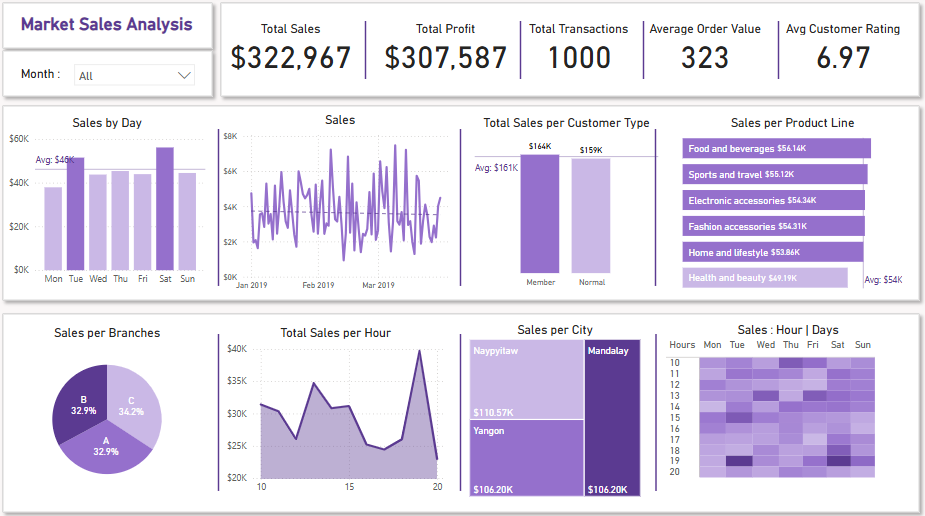

The page's visual inventory and layout, read from the dashboard file:
{"tool":"powerbi","page":{"name":"Page 1","canvas":[1280,720],"ordinal":0},"visuals":[{"type":"shape","box":[0,0,306.9,81.2],"z":0},{"type":"shape","box":[300,0,980,147.3],"z":1000},{"type":"shape","box":[0,428,1280,291.8],"z":2000},{"type":"shape","box":[0,141.8,1280,286.3],"z":3000},{"type":"card","title":"Total Sales","fields":{"Values":["Sum(Supermarket Sales Cleaned.Total)"]},"box":[312.4,34.4,185.8,72.9],"z":4000},{"type":"card","title":"Total Transactions","fields":{"Values":["Count(Supermarket Sales Cleaned.Invoice ID)"]},"box":[722.6,34.4,158.3,72.9],"z":5000},{"type":"card","title":"Total Profit","fields":{"Values":["Sum(Supermarket Sales Cleaned.cogs)"]},"box":[525.8,34.4,185.8,72.9],"z":6000},{"type":"card","title":"Average Order Value","fields":{"Values":["Supermarket Sales Cleaned.Average Order Value (AOV)"]},"box":[891.9,34.4,167.9,72.9],"z":7000},{"type":"card","title":"Avg Customer Rating","fields":{"Values":["Supermarket Sales Cleaned.Customer Rating"]},"box":[1077.7,34.4,176.2,72.9],"z":8000},{"type":"clusteredColumnChart","title":"Total Sales per Customer Type","fields":{"Y":["Sum(Supermarket Sales Cleaned.Total)"],"Category":["Supermarket Sales Cleaned.Customer type"]},"box":[653.8,163.8,262.9,243.6],"z":9000},{"type":"areaChart","title":"Total Sales per Hour","fields":{"Category":["Supermarket Sales Cleaned.Hours"],"Y":["Sum(Supermarket Sales Cleaned.Total)"]},"box":[312.4,452.8,309.7,240.9],"z":10000},{"type":"lineChart","title":"Sales","fields":{"Category":["Supermarket Sales Cleaned.Date.Variation.Date Hierarchy.Year","Supermarket Sales Cleaned.Date.Variation.Date Hierarchy.Quarter","Supermarket Sales Cleaned.Date.Variation.Date Hierarchy.Month","Supermarket Sales Cleaned.Date.Variation.Date Hierarchy.Day"],"Y":["Sum(Supermarket Sales Cleaned.Total)"]},"box":[312.4,159.7,322.1,247.7],"z":11000},{"type":"treemap","title":"Sales per City","fields":{"Group":["Supermarket Sales Cleaned.City"],"Values":["Sum(Supermarket Sales Cleaned.Total)"]},"box":[646.9,448.7,245,245],"z":12000},{"type":"pivotTable","title":"Sales : Hour | Days","fields":{"Rows":["Supermarket Sales Cleaned.Hours"],"Values":["Sum(Supermarket Sales Cleaned.Total)"],"Columns":["Supermarket Sales Cleaned.Short Day Name"]},"box":[916.6,448.7,346.8,257.4],"z":13000},{"type":"textbox","box":[28.9,19.3,260.1,42.7],"z":14000},{"type":"shape","box":[622.1,183.1,34.4,216.1],"z":15000},{"type":"shape","box":[890.5,183.1,34.4,216.1],"z":16000},{"type":"shape","box":[622.1,465.2,34.4,216.1],"z":17000},{"type":"shape","box":[889.1,465.2,38.5,216.1],"z":18000},{"type":"shape","box":[491.4,34.4,34.4,79.8],"z":19000},{"type":"shape","box":[711.6,34.4,20.6,79.8],"z":20000},{"type":"shape","box":[874,34.4,34.4,79.8],"z":21000},{"type":"shape","box":[1059.8,34.4,34.4,79.8],"z":22000},{"type":"pieChart","title":"Sales per Branches","fields":{"Category":["Supermarket Sales Cleaned.Branch"],"Y":["Sum(Supermarket Sales Cleaned.Total)"]},"box":[12.4,452.8,280.8,240.9],"z":23000},{"type":"clusteredColumnChart","fields":{"Y":["Sum(Supermarket Sales Cleaned.Total)"],"Category":["Supermarket Sales Cleaned.Short Day Name"]},"box":[12.4,163.8,280.8,243.6],"z":24000},{"type":"shape","box":[289,183.1,34.4,216.1],"z":25000},{"type":"shape","box":[289,465.2,34.4,216.1],"z":26000},{"type":"clusteredBarChart","title":"Sales per Product Line","fields":{"Category":["Supermarket Sales Cleaned.Product line"],"Y":["Sum(Supermarket Sales Cleaned.Total)"]},"box":[940,163.8,312.4,243.6],"z":27000},{"type":"shape","box":[0,66.1,306.9,81.2],"z":28000},{"type":"slicer","fields":{"Values":["Supermarket Sales Cleaned.Month1"]},"box":[97.7,84,185.8,46.8],"z":29000},{"type":"textbox","box":[28.9,92.2,68.8,30.3],"z":30000}]}

Visuals, with their boxes in screenshot pixels (x1, y1, x2, y2), scaled from the page's 1280x720 canvas onto the 925x516 screenshot:
shape: [x1=0, y1=0, x2=222, y2=58]
shape: [x1=217, y1=0, x2=924, y2=106]
shape: [x1=0, y1=307, x2=924, y2=515]
shape: [x1=0, y1=102, x2=924, y2=307]
"Total Sales" card: [x1=226, y1=25, x2=360, y2=77]
"Total Transactions" card: [x1=522, y1=25, x2=637, y2=77]
"Total Profit" card: [x1=380, y1=25, x2=514, y2=77]
"Average Order Value" card: [x1=645, y1=25, x2=766, y2=77]
"Avg Customer Rating" card: [x1=779, y1=25, x2=906, y2=77]
"Total Sales per Customer Type" clusteredColumnChart: [x1=472, y1=117, x2=662, y2=292]
"Total Sales per Hour" areaChart: [x1=226, y1=325, x2=450, y2=497]
"Sales" lineChart: [x1=226, y1=114, x2=459, y2=292]
"Sales per City" treemap: [x1=467, y1=322, x2=645, y2=497]
"Sales : Hour | Days" pivotTable: [x1=662, y1=322, x2=913, y2=506]
textbox: [x1=21, y1=14, x2=209, y2=44]
shape: [x1=450, y1=131, x2=474, y2=286]
shape: [x1=644, y1=131, x2=668, y2=286]
shape: [x1=450, y1=333, x2=474, y2=488]
shape: [x1=643, y1=333, x2=670, y2=488]
shape: [x1=355, y1=25, x2=380, y2=82]
shape: [x1=514, y1=25, x2=529, y2=82]
shape: [x1=632, y1=25, x2=656, y2=82]
shape: [x1=766, y1=25, x2=791, y2=82]
"Sales per Branches" pieChart: [x1=9, y1=325, x2=212, y2=497]
clusteredColumnChart - Sum(Supermarket Sales Cleaned.Total) x Supermarket Sales Cleaned.Short Day Name: [x1=9, y1=117, x2=212, y2=292]
shape: [x1=209, y1=131, x2=234, y2=286]
shape: [x1=209, y1=333, x2=234, y2=488]
"Sales per Product Line" clusteredBarChart: [x1=679, y1=117, x2=905, y2=292]
shape: [x1=0, y1=47, x2=222, y2=106]
slicer - Supermarket Sales Cleaned.Month1: [x1=71, y1=60, x2=205, y2=94]
textbox: [x1=21, y1=66, x2=71, y2=88]
